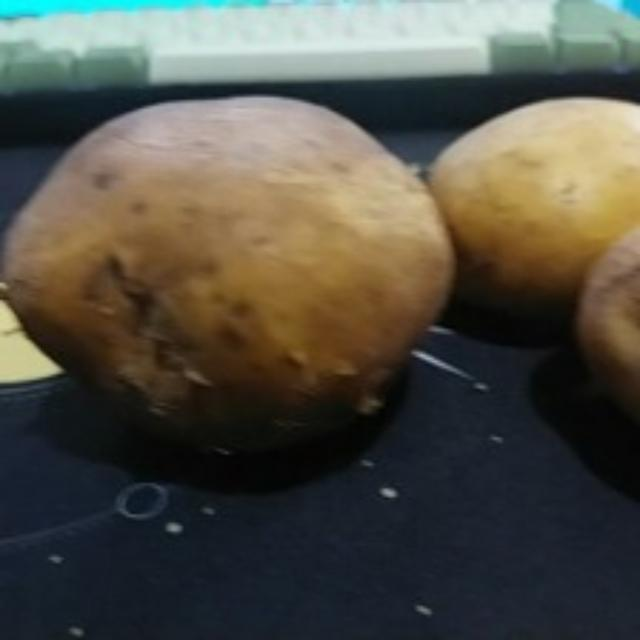Damaged potato: (1, 99, 453, 438), (582, 215, 640, 419)
Potato: (428, 93, 640, 304)
